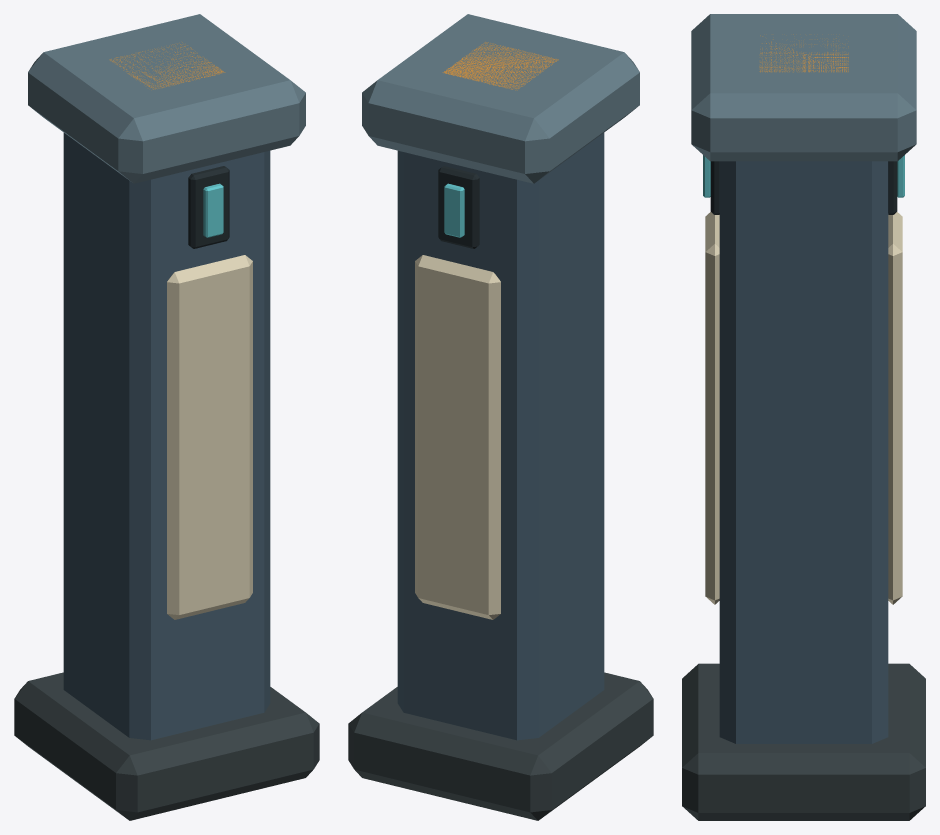
Rendered from emergency-corner-post.glb.
The picture shows the model from 3 angles, left to right: view 1: azimuth 30°, elevation 25°; view 2: azimuth 150°, elevation 25°; view 3: azimuth 270°, elevation 25°; orthographic projection. The views are drawn at different scales.
Parts seen in each view (by area): view 1: emergency-corner-post; view 2: emergency-corner-post; view 3: emergency-corner-post.
Part boxes in pixels (x1,y1,x2,y2): emergency-corner-post: (14,14,319,820); emergency-corner-post: (348,14,653,820); emergency-corner-post: (682,14,925,820).
Bounding box in the file's own units: 0.52 × 1.7 × 0.52.
1 material, 1 textured.
